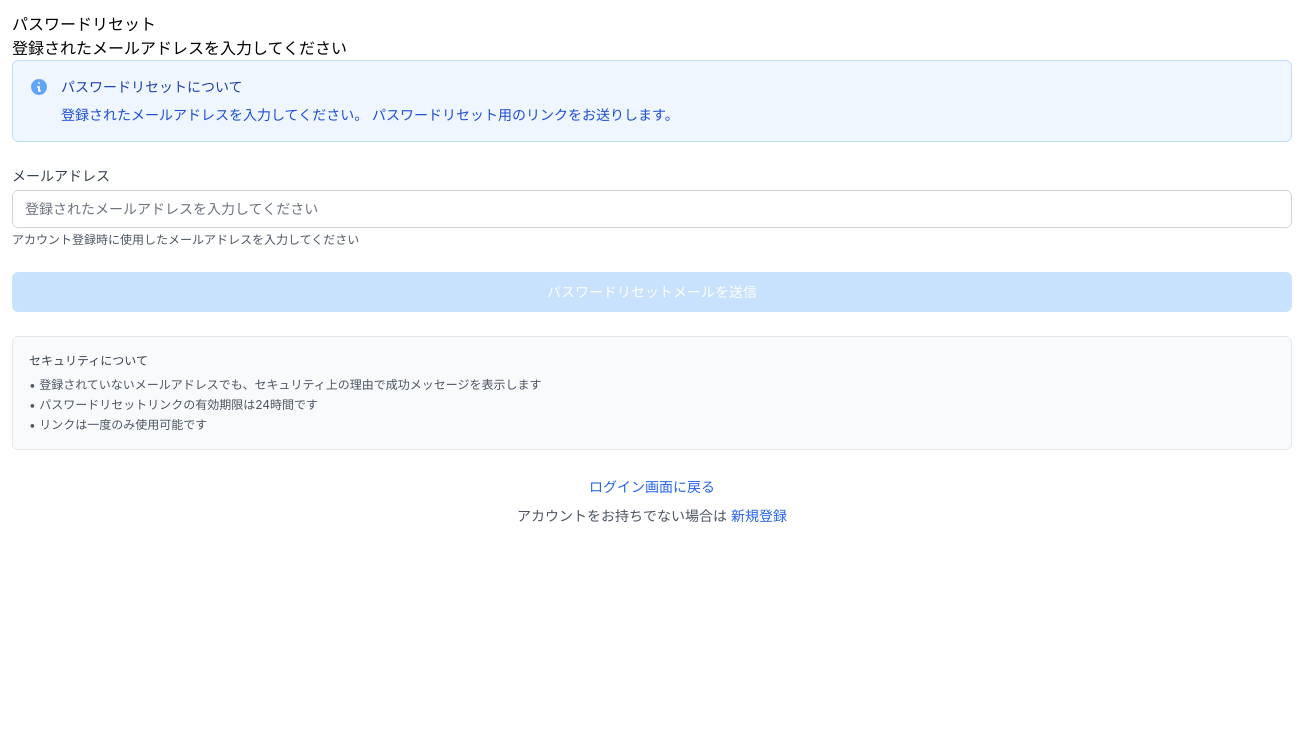
Scenario: PasswordResetPage › フォームバリデーションが正しく動作する
Expected: the button "パスワードリセットメールを送信" is disabled, top-left (12, 272), bottom-right (1292, 312)
Note: 無効なメールアドレスを入力
Type "invalid-email" into the field labelled "メールアドレス".
click(652, 209); type("invalid-email")  # box top-left (12, 190), bottom-right (1292, 228)
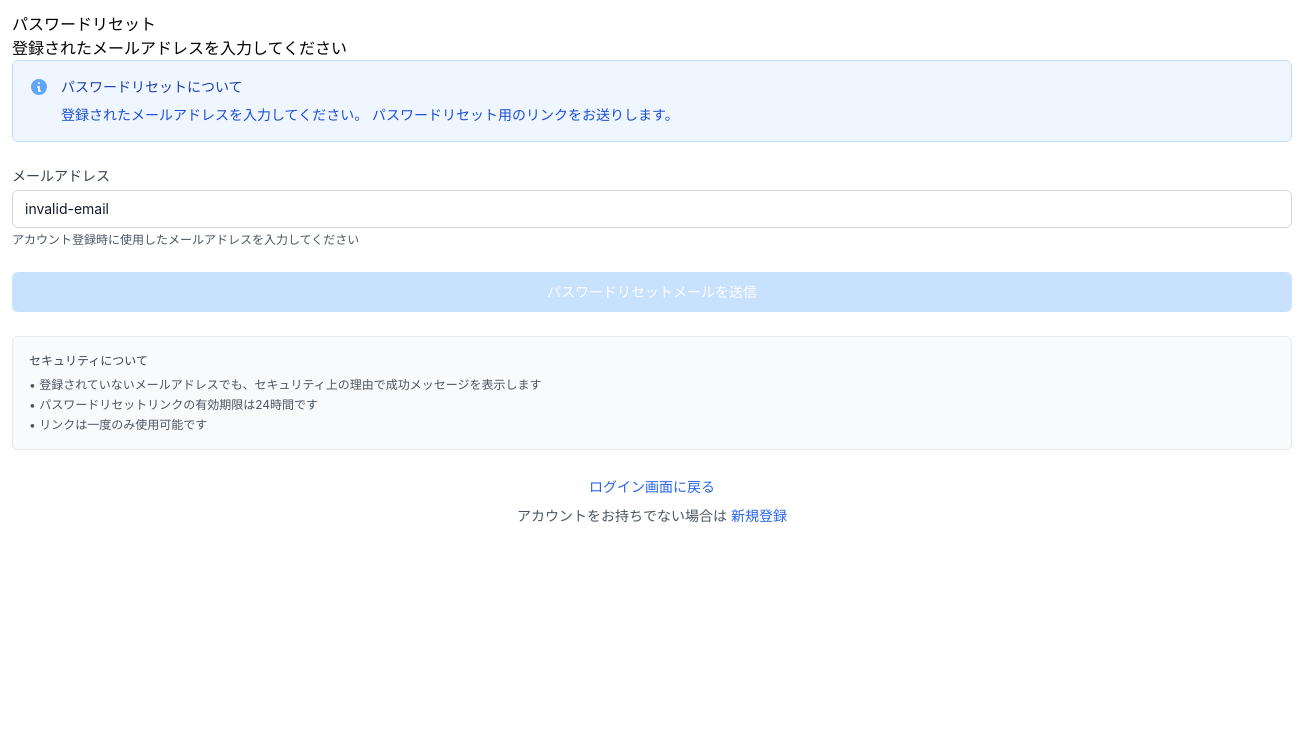
Leave the field labelled "メールアドレス", box top-left (12, 190), bottom-right (1292, 228)
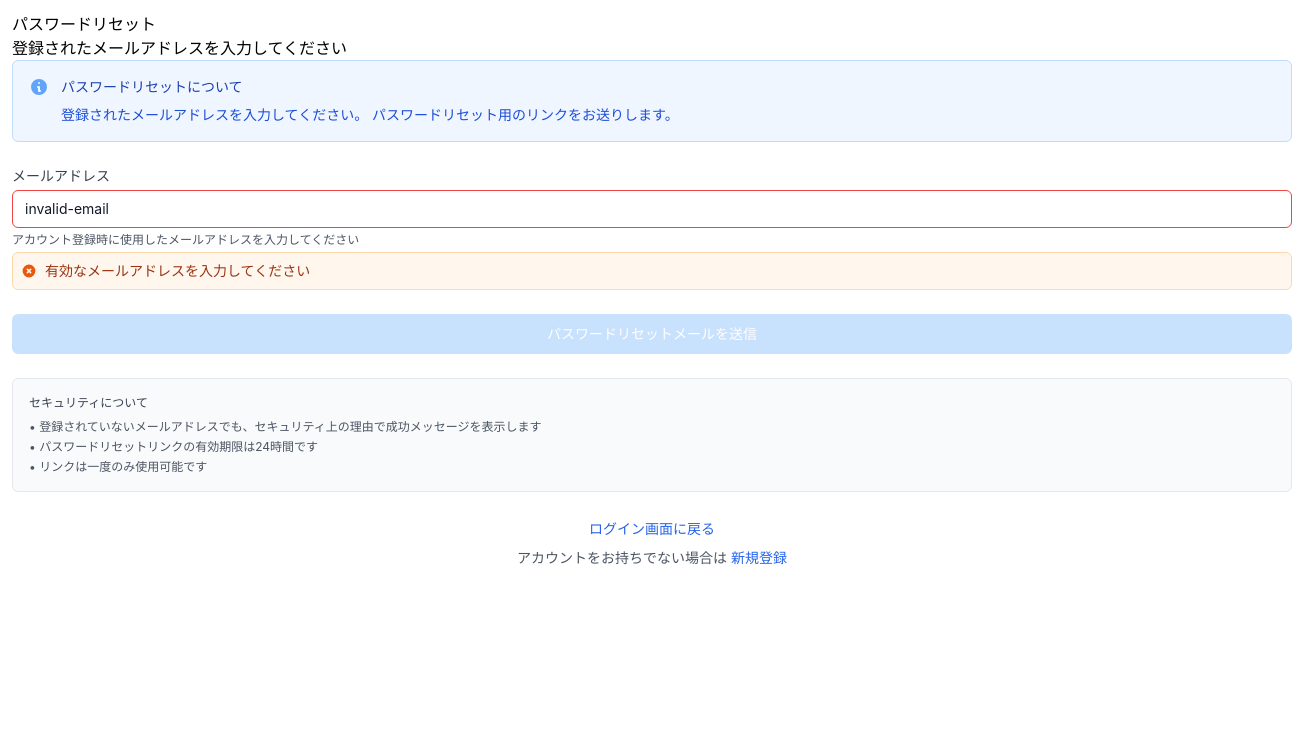
Expected: the text "有効なメールアドレスを入力してください" is shown, top-left (44, 261), bottom-right (310, 279)
